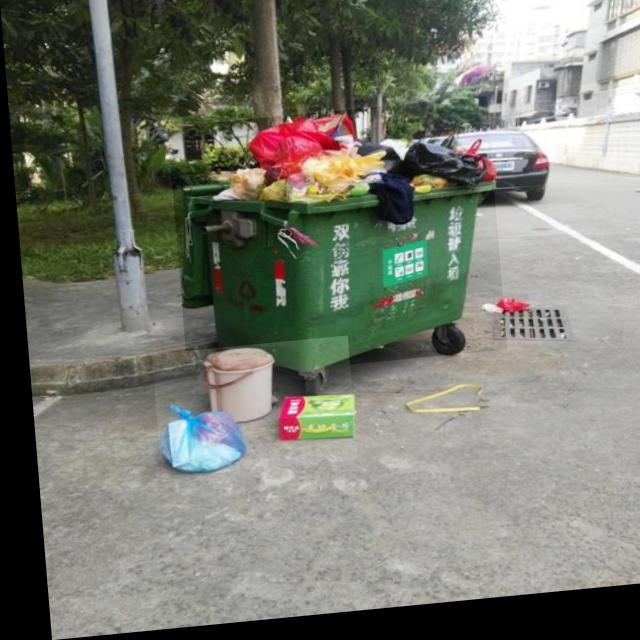garbage: (145, 342, 350, 481), (472, 304, 523, 325)
overflow: (165, 106, 500, 383)
